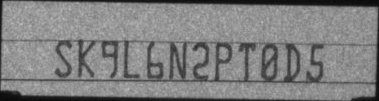0: (259, 41, 277, 82)
2: (192, 40, 209, 80)
5: (305, 42, 326, 82)
6: (146, 39, 165, 79)
9: (101, 39, 118, 79)
D: (283, 42, 301, 83)
K: (76, 38, 94, 78)
L: (123, 39, 139, 82)
N: (168, 40, 188, 81)
P: (214, 41, 233, 80)
S: (54, 40, 72, 78)
T: (238, 42, 257, 82)
